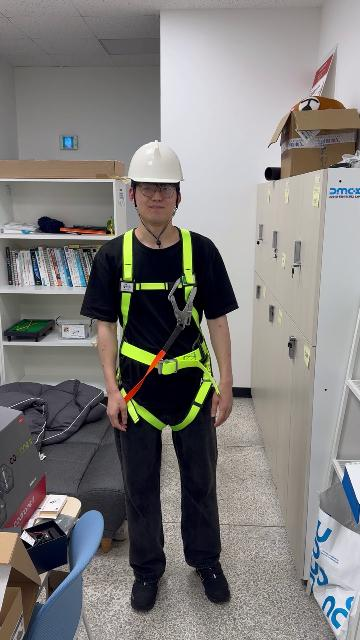helmet_worn: (129, 139, 186, 186)
shoe_worn: (197, 558, 234, 603), (132, 563, 161, 612)
vest_worn: (119, 226, 218, 431)
